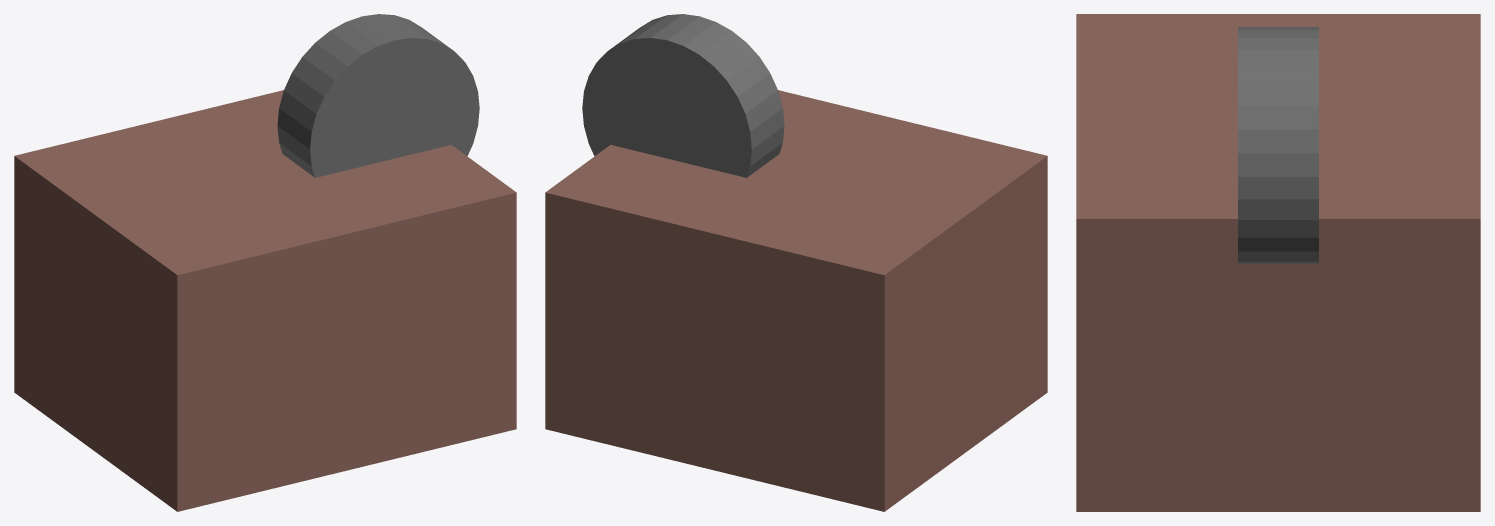
File: broken_equipment.glb
The picture shows the model from 3 angles, left to right: view 1: azimuth 30°, elevation 25°; view 2: azimuth 150°, elevation 25°; view 3: azimuth 270°, elevation 25°; orthographic projection. The views are drawn at different scales.
Visible parts, largest first — view 1: geometry_0; view 2: geometry_0; view 3: geometry_0.
Boxes of the visible parts, x1,y1,x2,y2 form: geometry_0: [14, 14, 516, 511]; geometry_0: [545, 14, 1047, 511]; geometry_0: [1076, 14, 1480, 511].
Size of the model in its own units: 0.65 by 0.6 by 0.5.
